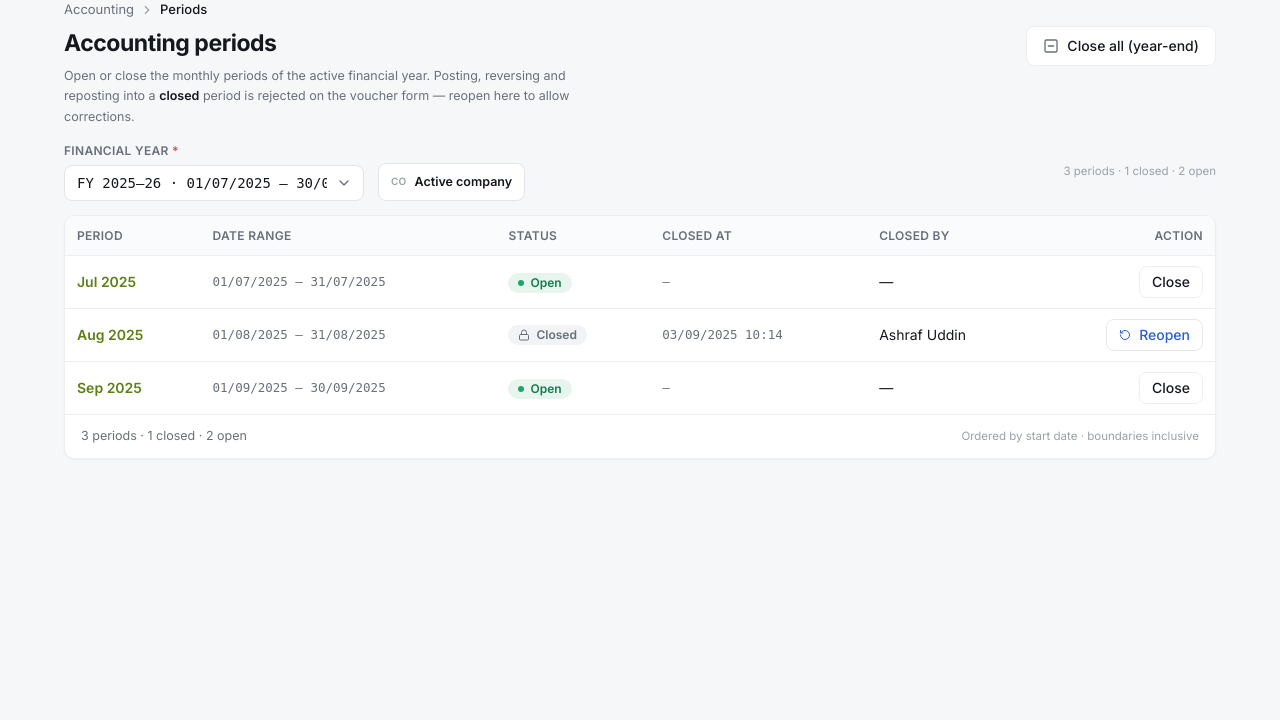
Test: PeriodManagerScreen — reopen action + PERIOD_FY_LOCKED › Reopen opens its confirm dialog with exact copy
The width and height of the screenshot is (1280, 720).
Expected: the table with test id "period-table" is shown, [65,216,1215,414]
Click the button with test id "reopen-p2" at (1155, 335), box [1106,319,1203,351]
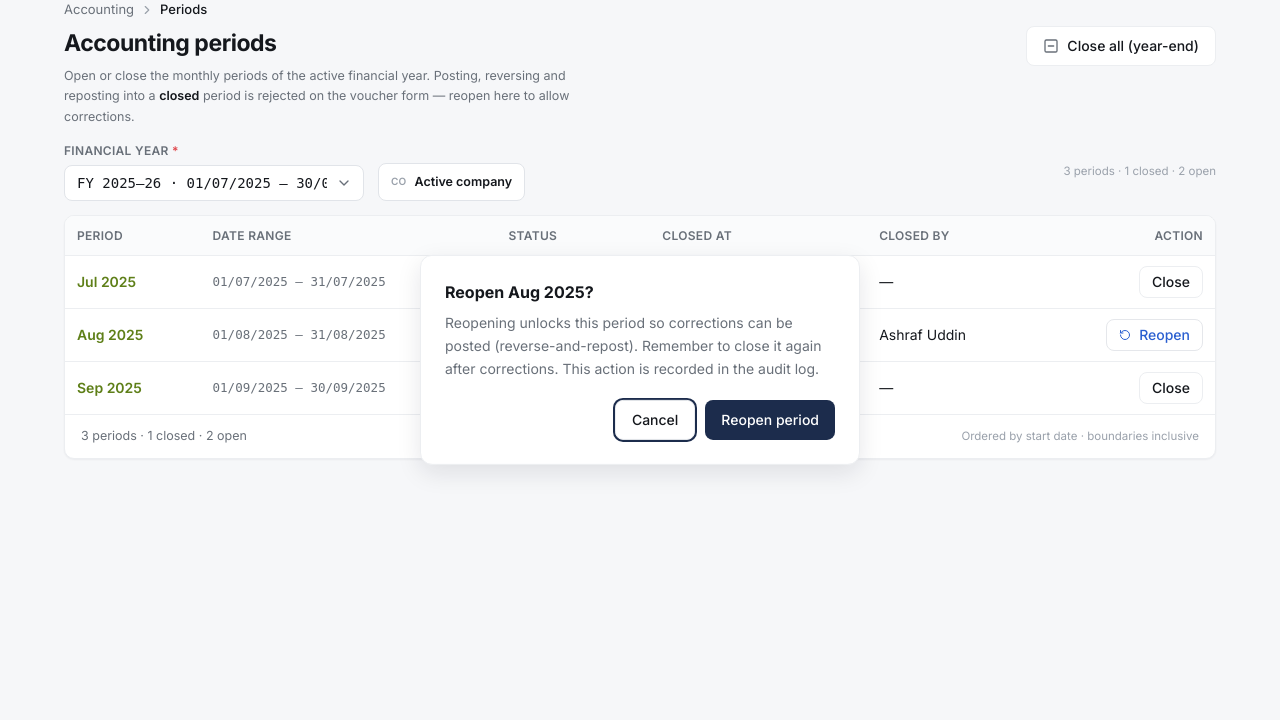
Expected: the dialog with test id "reopen-dialog" is shown, [420,255,860,465]
Expected: the heading "Reopen Aug 2025?" is shown, [445,282,594,302]
Expected: the text "Reopening unlocks this period" is shown, [445,314,821,376]
